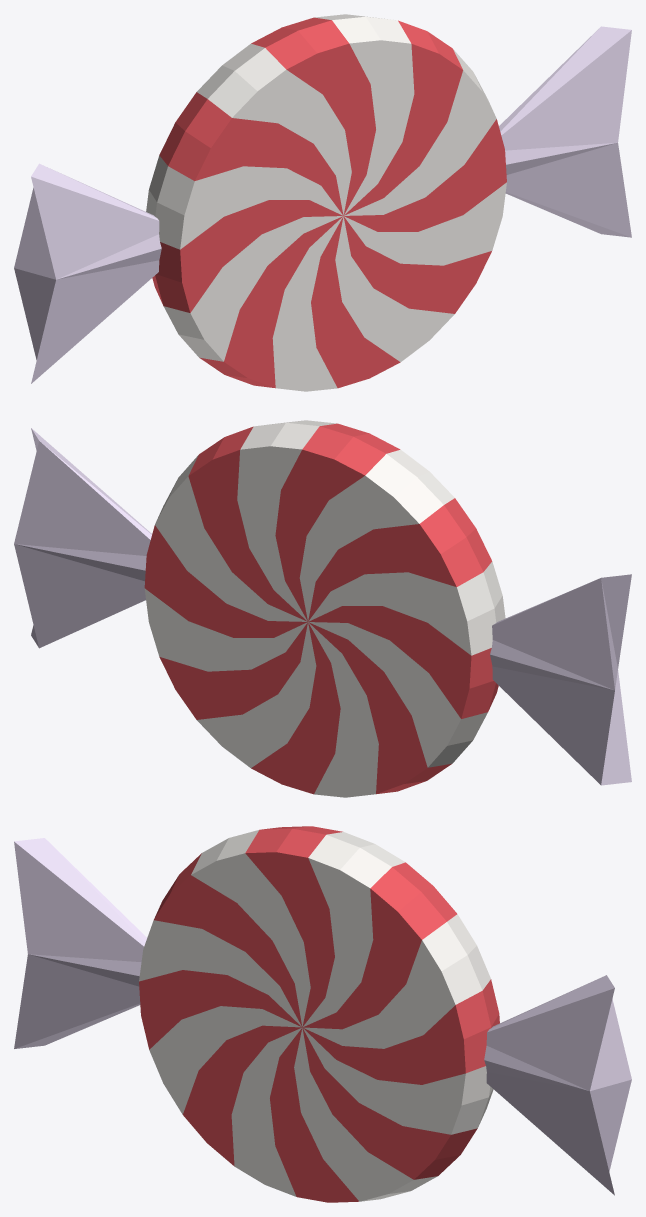
The model's file is Peppermint.glb.
The picture shows the model from 3 angles, top to bottom: view 1: azimuth 30°, elevation 25°; view 2: azimuth 150°, elevation 25°; view 3: azimuth 330°, elevation 25°; orthographic projection.
Visible parts, largest first — view 1: Red, White, Wrapper; view 2: Red, White, Wrapper; view 3: White, Red, Wrapper.
Boxes of the visible parts, x1,y1,x2,y2 form: Red: (152,17,506,388); White: (146,14,506,391); Wrapper: (14,26,631,383); Red: (144,423,498,794); White: (144,420,505,797); Wrapper: (14,428,631,785); White: (139,830,493,1201); Red: (139,826,499,1202); Wrapper: (14,838,631,1195).
Bounding box in the file's own units: 1.84 × 1.06 × 0.188.
